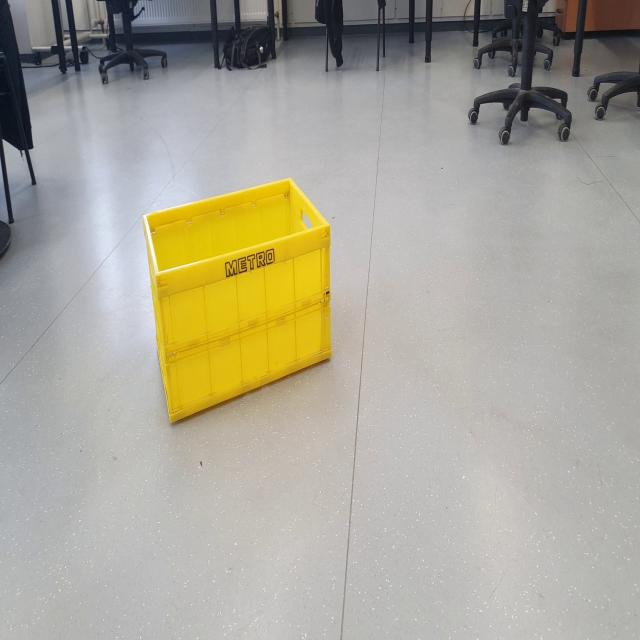box: (140, 172, 336, 432)
